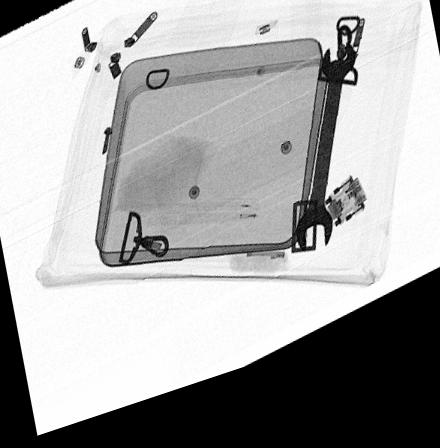Wrench: (291, 62, 356, 273)
